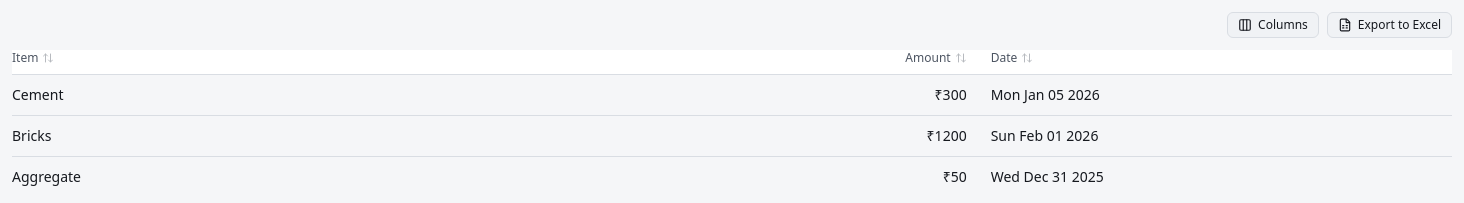
Test case: data grid layout › sorts by a header, with aria-sort, and keeps it
This screenshot has width=1464, height=203.
Later steps or results of the test are not shown.
Click the button "Amount" at (936, 58), box [905,50,967,66]
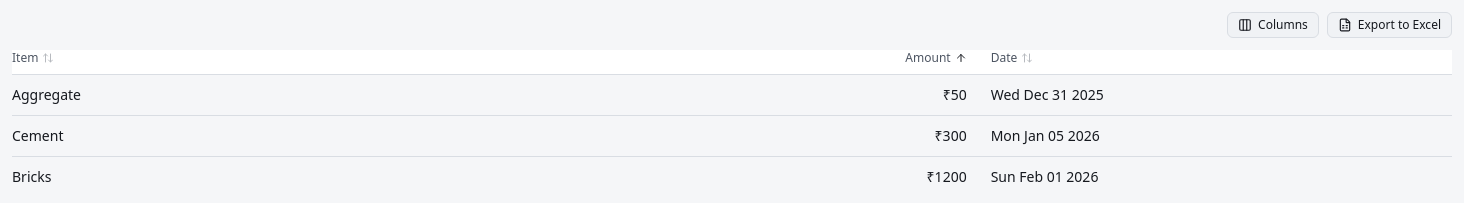
Expected: the column heading "Amount" has attribute aria-sort="ascending", [485,50,979,74]
Click the button "Amount" at (936, 58), box [905,50,967,66]
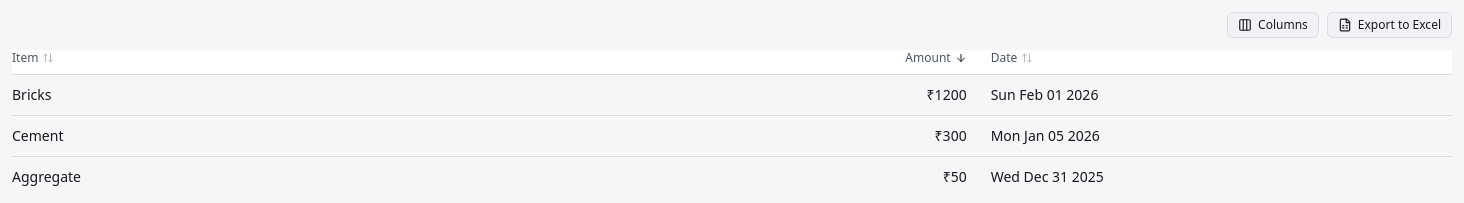
Expected: the column heading "Amount" has attribute aria-sort="descending", [485,50,979,74]
